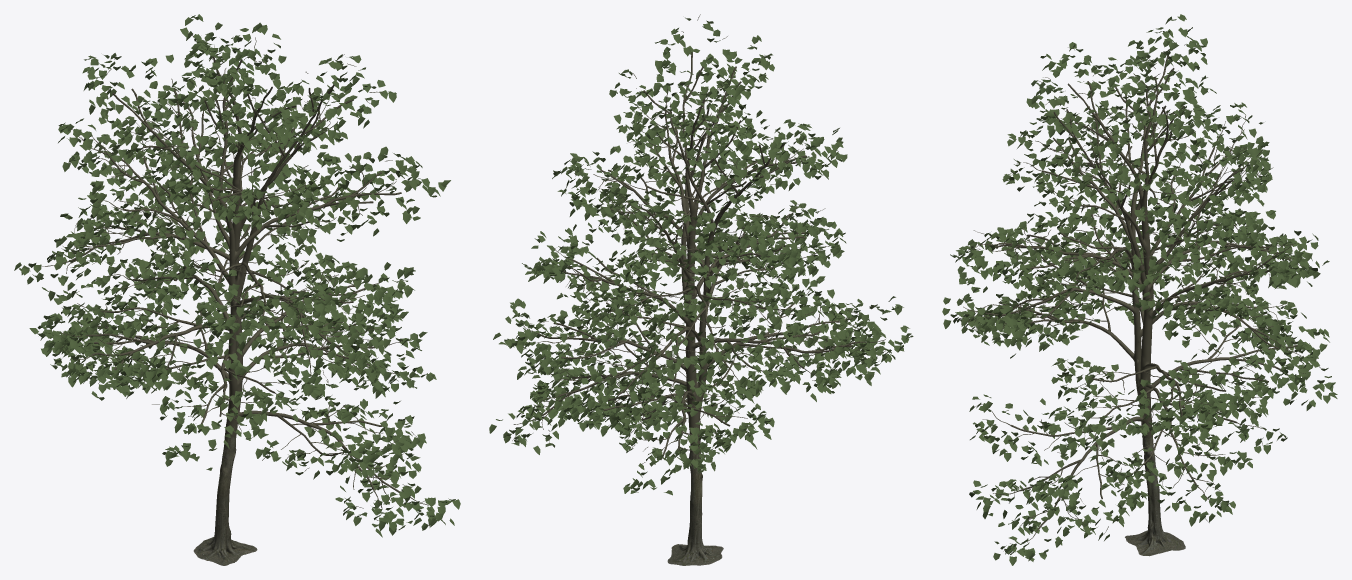
File: garden_tree_01.glb
3 renders of one model, left to right at view 1: azimuth 30°, elevation 25°; view 2: azimuth 150°, elevation 25°; view 3: azimuth 270°, elevation 25°, orthographic. The views are drawn at different scales.
Visible parts, largest first — view 1: garden_tree_01__lod0; view 2: garden_tree_01__lod0; view 3: garden_tree_01__lod0.
Boxes of the visible parts, box(x1,y1,x2,y2) form: garden_tree_01__lod0: box(14, 14, 460, 565); garden_tree_01__lod0: box(489, 14, 913, 565); garden_tree_01__lod0: box(942, 14, 1337, 565).
Size of what is drawn, in the model's own units: 11.03 by 14.19 by 10.21.
Materials: 3 (3 with a texture image).
